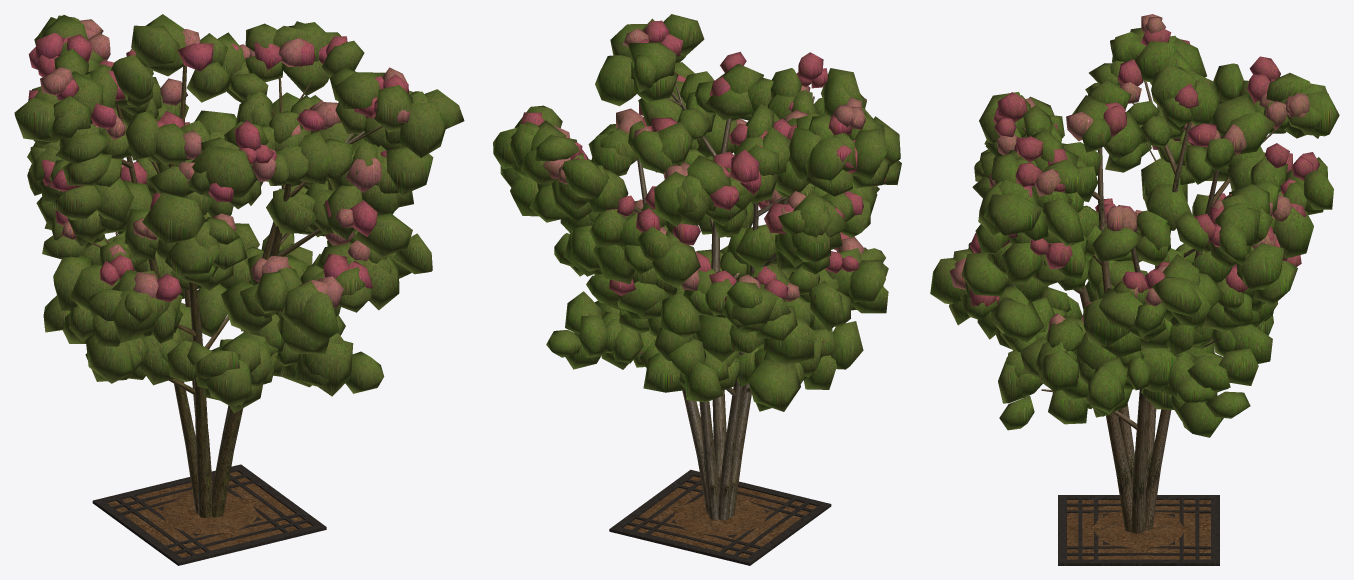
File: crape_myrtle.glb
The picture shows the model from 3 angles, left to right: view 1: azimuth 30°, elevation 25°; view 2: azimuth 150°, elevation 25°; view 3: azimuth 270°, elevation 25°; orthographic projection. The views are drawn at different scales.
Visible parts, largest first — view 1: CrapeMyrtle; view 2: CrapeMyrtle; view 3: CrapeMyrtle.
Boxes of the visible parts, <box> form: CrapeMyrtle: <box>14,14,464,565</box>; CrapeMyrtle: <box>493,14,901,565</box>; CrapeMyrtle: <box>930,14,1339,565</box>.
Size of the model in its own units: 3.8 by 4.41 by 3.64.
6 materials, 6 textured.
